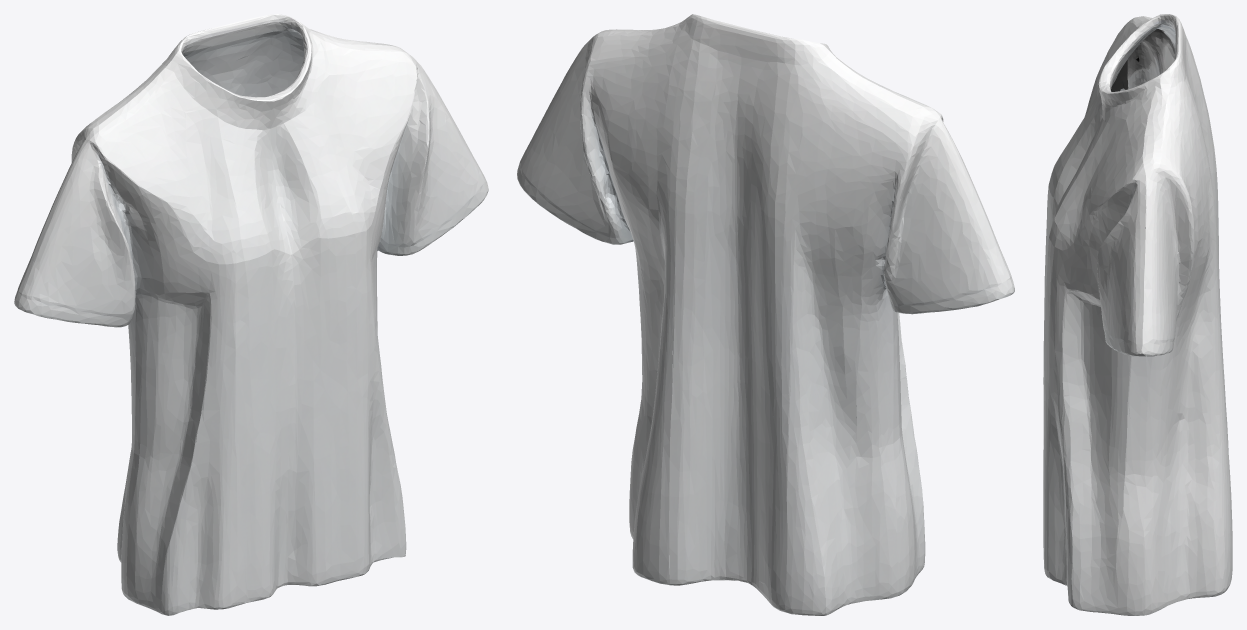
File: tshirt_front.glb
3 views of the same model, side by side, from view 1: azimuth 30°, elevation 25°; view 2: azimuth 150°, elevation 25°; view 3: azimuth 270°, elevation 25° (orthographic). The views are drawn at different scales.
Visible parts, largest first — view 1: world; view 2: world; view 3: world.
Part boxes in pixels (x1=…): world: x1=14, y1=14, x2=488, y2=615; world: x1=517, y1=14, x2=1014, y2=615; world: x1=1043, y1=14, x2=1232, y2=615.
Bounding box in the file's own units: 0.9364 × 1 × 0.3325.
1 material, 1 textured.
